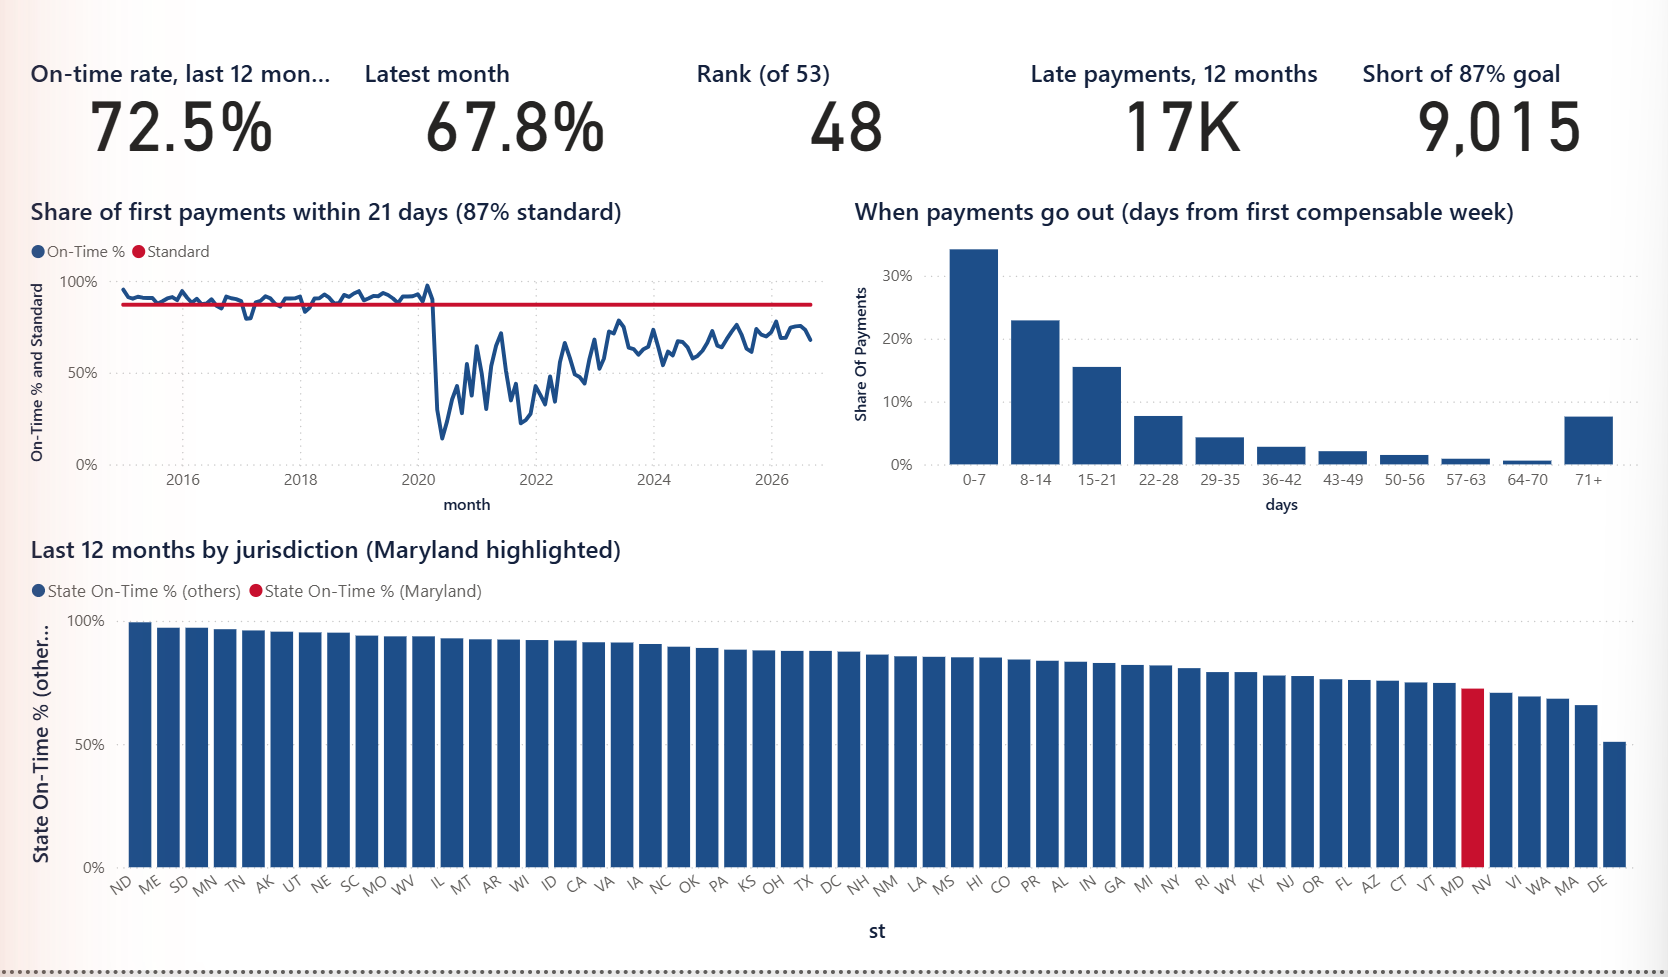

This screenshot's page, from the dashboard's own definition file:
{"tool":"powerbi","page":{"name":"Executive overview","canvas":[1280,720],"ordinal":0},"visuals":[{"type":"card","title":"On-time rate, last 12 months","fields":{"Values":["Timeliness.On-Time % 12M"]},"box":[20,20,240,90],"z":0},{"type":"card","title":"Latest month","fields":{"Values":["Timeliness.Latest Month On-Time %"]},"box":[275,20,240,90],"z":0},{"type":"card","title":"Rank (of 53)","fields":{"Values":["StateComparison.Maryland Rank"]},"box":[530,20,240,90],"z":0},{"type":"card","title":"Late payments, 12 months","fields":{"Values":["Timeliness.Late Payments 12M"]},"box":[785,20,240,90],"z":0},{"type":"card","title":"Short of 87% goal","fields":{"Values":["Timeliness.Payments Short Of 87%"]},"box":[1040,20,220,90],"z":0},{"type":"lineChart","title":"Share of first payments within 21 days (87% standard)","fields":{"Category":["Timeliness.month"],"Y":["Timeliness.On-Time %","Timeliness.Standard"]},"box":[20,125,620,250],"z":0},{"type":"clusteredColumnChart","title":"When payments go out (days from first compensable week)","fields":{"Category":["DelayBands.days"],"Y":["DelayBands.Share Of Payments"]},"box":[650,125,610,250],"z":0},{"type":"columnChart","title":"Last 12 months by jurisdiction (Maryland highlighted)","fields":{"Category":["StateComparison.st"],"Y":["StateComparison.State On-Time % (others)","StateComparison.State On-Time % (Maryland)"]},"box":[20,385,1240,320],"z":0}]}

Visuals, with their boxes on the page's 1280x720 design canvas (x1, y1, x2, y2). These are canvas units, not pixel positions in the 1668x977 screenshot, which may show the page scaled, cropped or inside an application window:
"On-time rate, last 12 months" card: select_region(20, 20, 260, 110)
"Latest month" card: select_region(275, 20, 515, 110)
"Rank (of 53)" card: select_region(530, 20, 770, 110)
"Late payments, 12 months" card: select_region(785, 20, 1025, 110)
"Short of 87% goal" card: select_region(1040, 20, 1260, 110)
"Share of first payments within 21 days (87% standard)" lineChart: select_region(20, 125, 640, 375)
"When payments go out (days from first compensable week)" clusteredColumnChart: select_region(650, 125, 1260, 375)
"Last 12 months by jurisdiction (Maryland highlighted)" columnChart: select_region(20, 385, 1260, 705)
